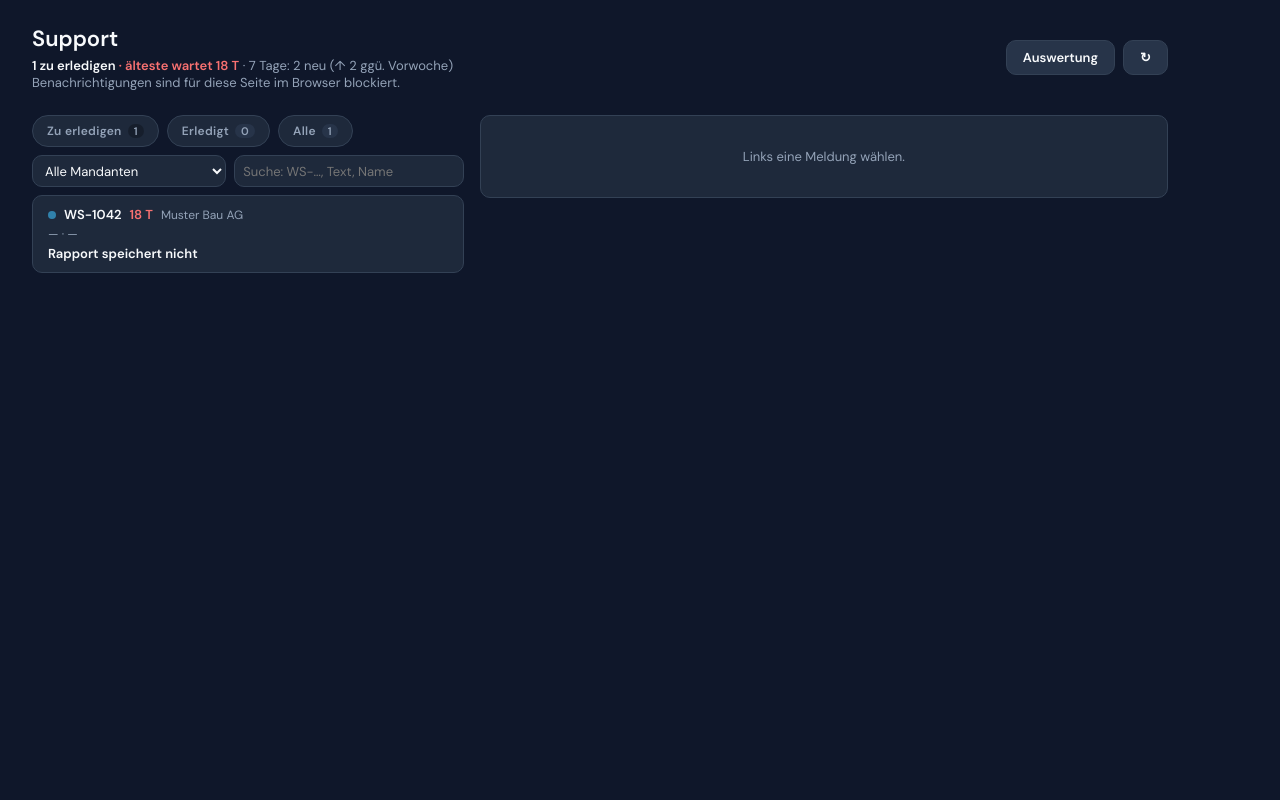
SupportTicketsScreen — Posteingang › markiert nie Geöffnetes und nimmt den Punkt beim Öffnen weg
Expected: the element named "ungelesen" is shown, [48,210,56,218]
Click the list item titled "Meldung öffnen". click: (93,214)
box: [33,196,463,272]
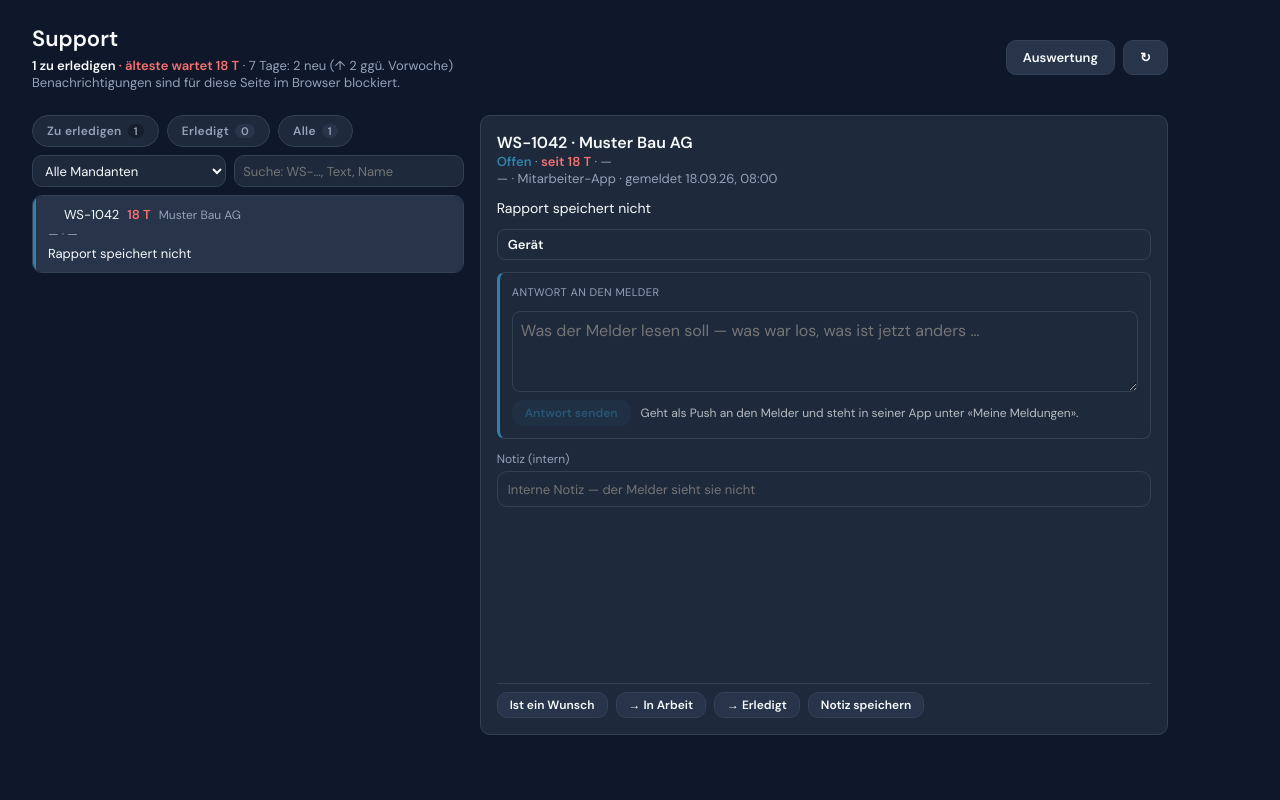
Result: the text "Antwort an den Melder" is shown at [512,285,659,299]
